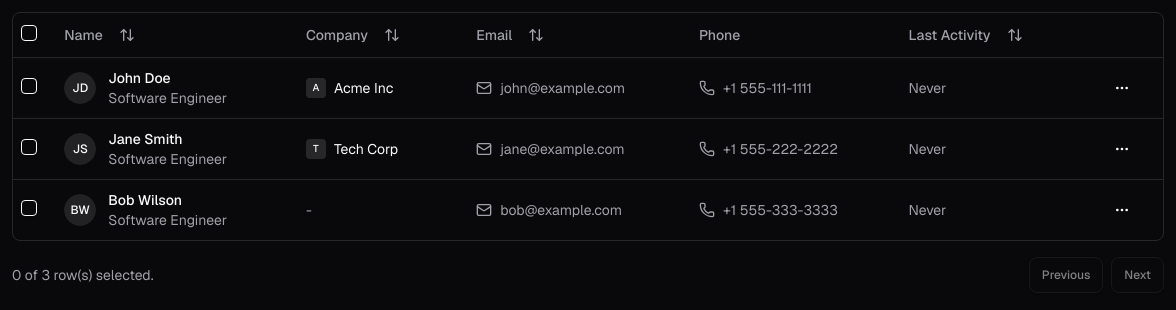
Test: ContactList › Checkboxes and Selection › shows selected count
What coordinates should you click on to do the following:
click the checkbox named "Select row"
I would click on:
 (29, 86)
Its box is left=21, top=78, right=37, bottom=94.
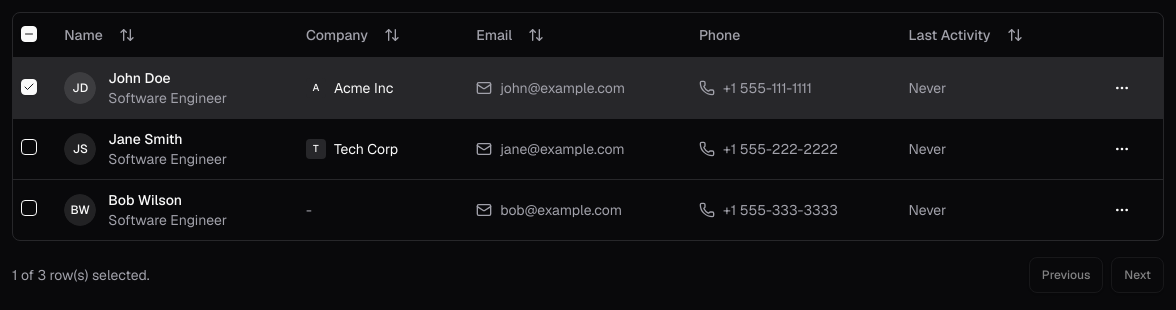
Expected: the text "1 of 3 row(s) selected." is shown, left=12, top=265, right=150, bottom=285
